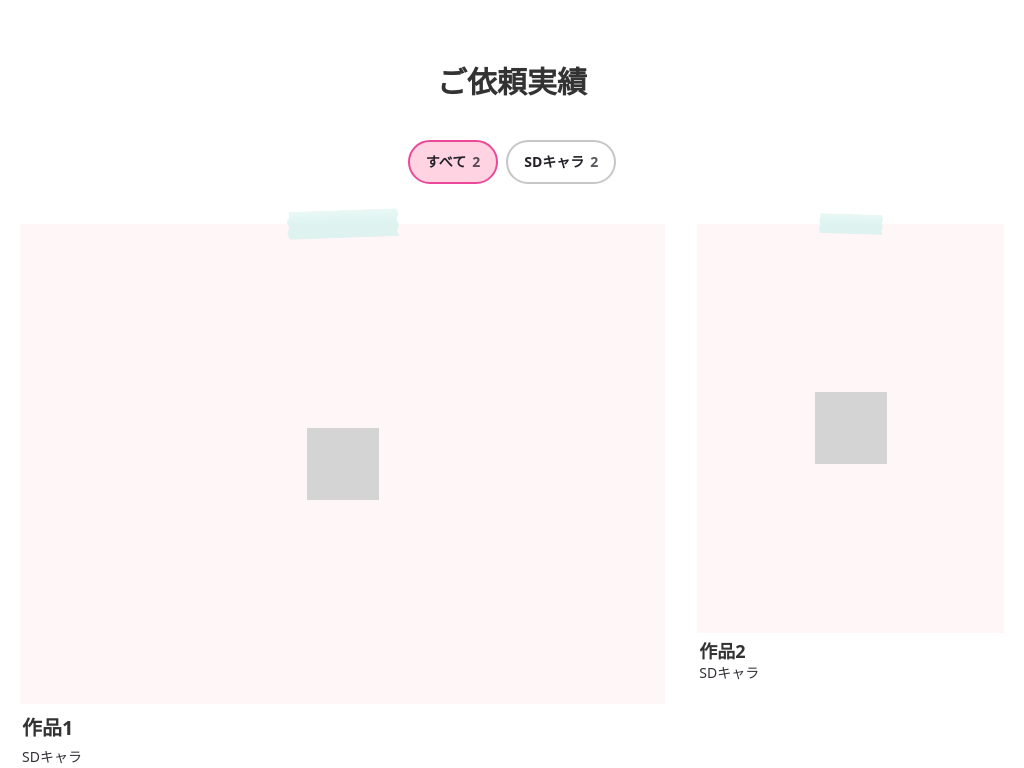
PortfolioGallery collections › 関連リンクは絵の下部に帯で重ね、畳むとその作品だけ小さな案内に変わる
The width and height of the screenshot is (1024, 768).
Step 1. Click the button named "作品1 を拡大表示" → coordinates (59, 464), box [20,224,665,704]
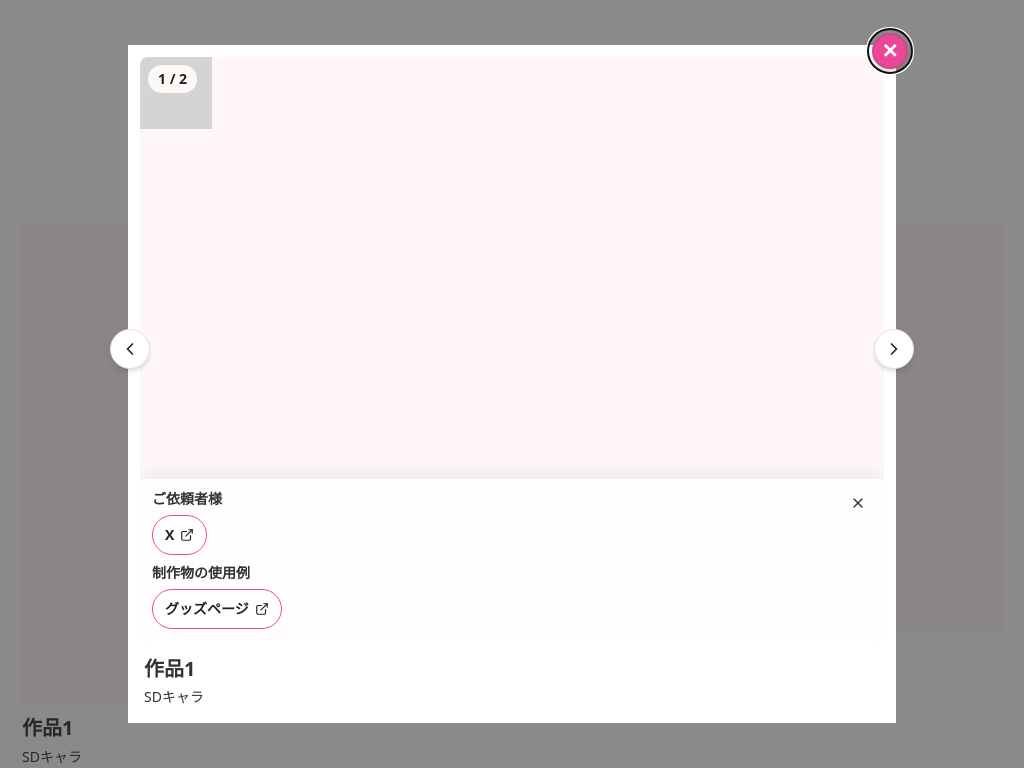
Step 2. Click the button named "ご依頼者様・制作物の使用例を畳んで絵を全部見る" → coordinates (858, 503), box [840,485,876,521]
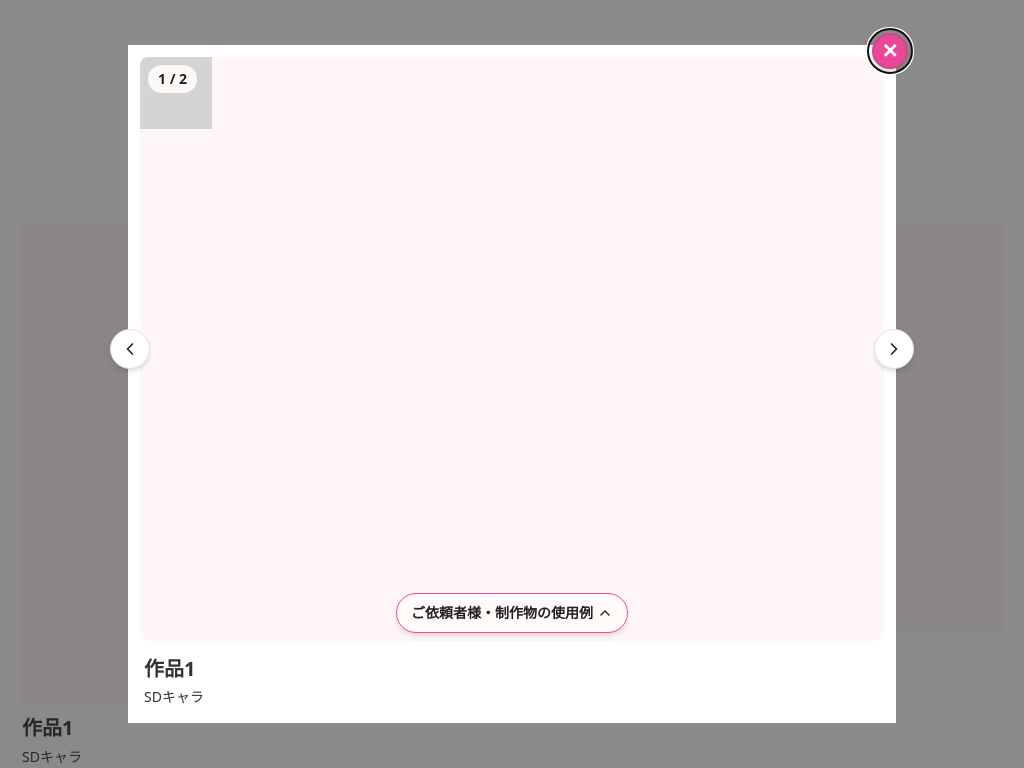
Expected: the link "グッズページ" is gone
Step 3. Click the button named "次の作品を表示" → coordinates (894, 349), box [872,327,916,371]
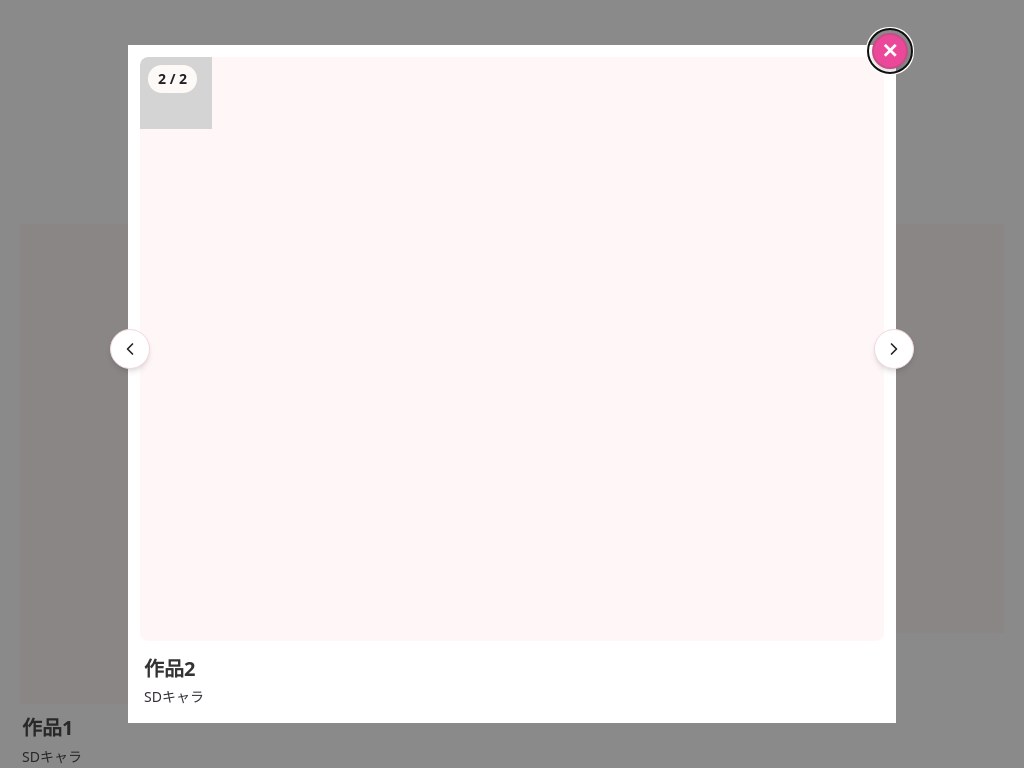
Expected: the button "ご依頼者様・制作物の使用例" is gone
Step 4. Click the button named "前の作品を表示" → coordinates (130, 349), box [108,327,152,371]
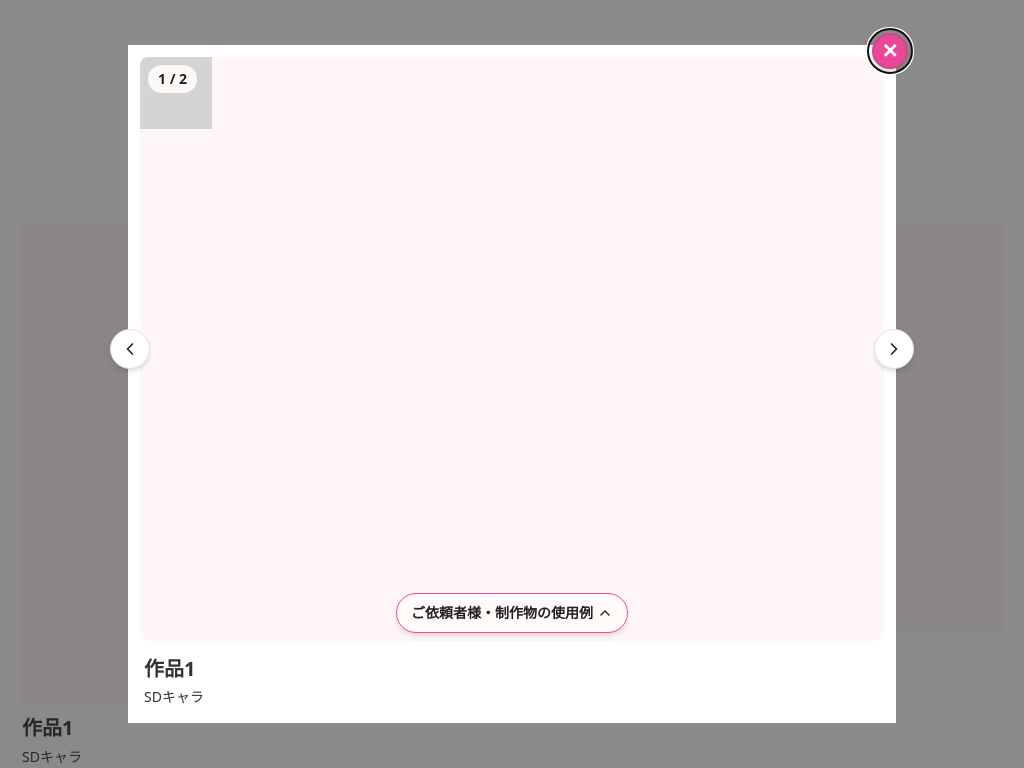
Step 5. Click the button "ご依頼者様・制作物の使用例" → coordinates (512, 613), box [396,593,628,633]
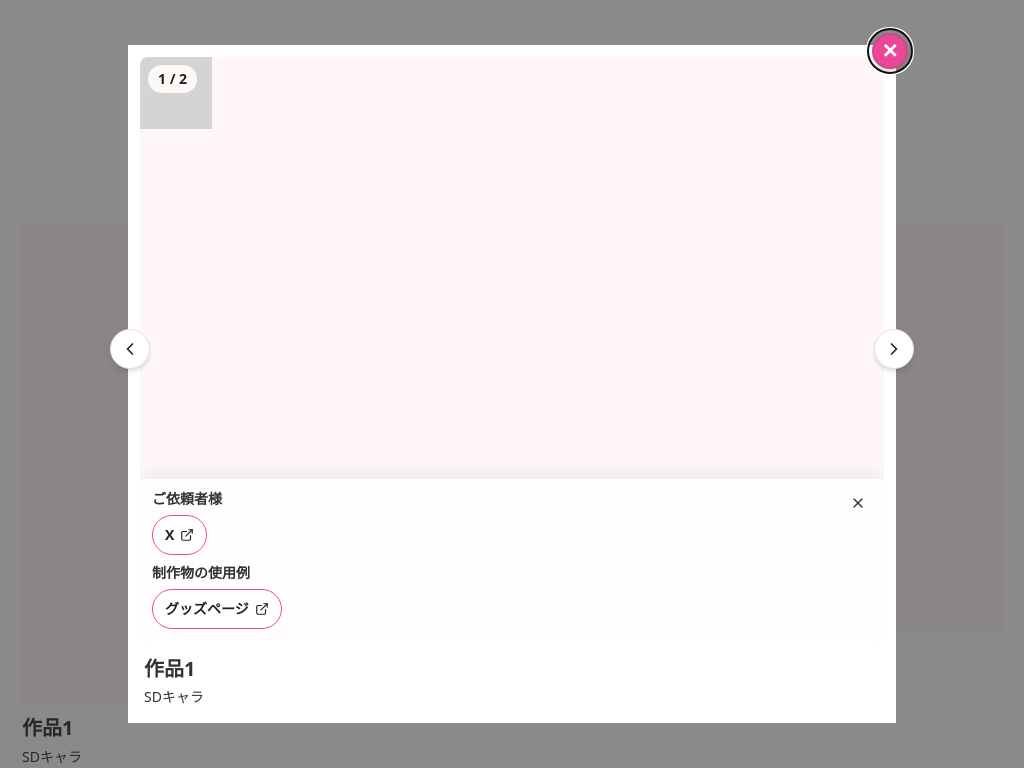
Expected: the link "グッズページ" is shown, [152,589,282,629]
